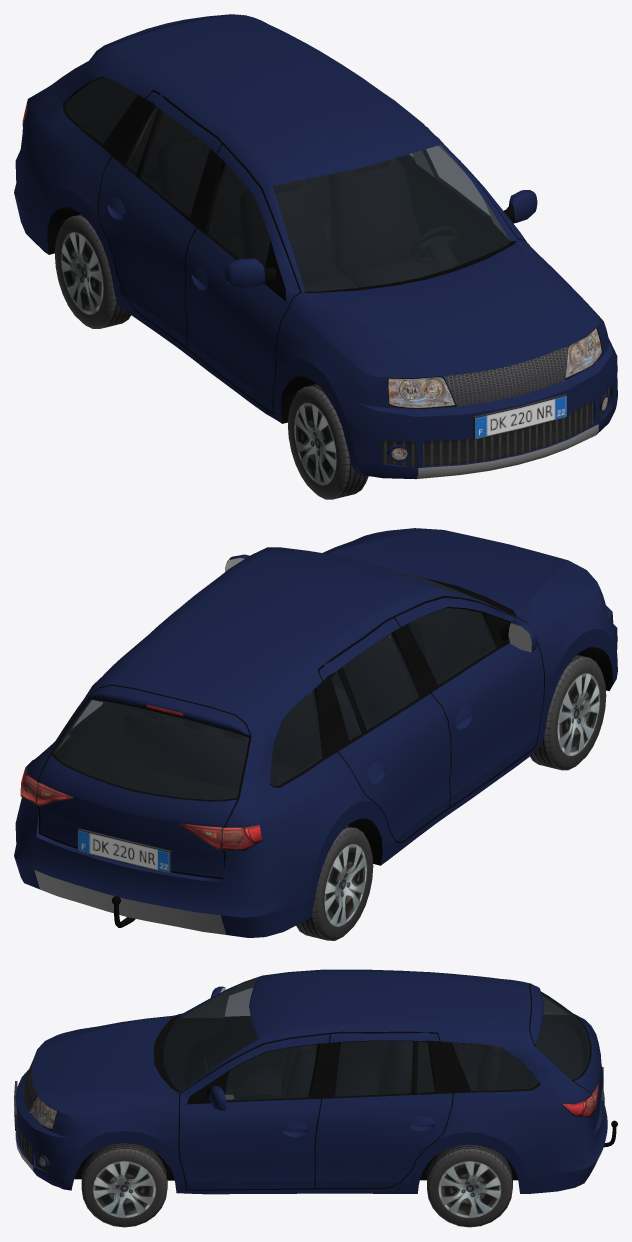
File: break.obj
3 renders of one model, top to bottom at view 1: azimuth 30°, elevation 25°; view 2: azimuth 150°, elevation 25°; view 3: azimuth 270°, elevation 25°, orthographic. The views are drawn at different scales.
Visible parts, largest first — view 1: Car_mesh.190, Seating_Cube.005, wheels_Cylinder, InteriorCar_mesh.004, FrontLines_mesh.009, LicensePlates_mesh.010, Rearview_Plane.002, Lines_mesh.008, SteeringWheel_Torus; view 2: Car_mesh.190, Seating_Cube.005, wheels_Cylinder, InteriorCar_mesh.004, RearLights_mesh.005, Lines_mesh.008, LicensePlates_mesh.010, sweethome3d_window_mirror_Plane.003; view 3: Car_mesh.190, wheels_Cylinder, InteriorCar_mesh.004, Seating_Cube.005, Lines_mesh.008, RearLights_mesh.005, FrontLines_mesh.009, Rearview_Plane.002.
Boxes of the visible parts, x1,y1,x2,y2 form: Car_mesh.190: [14, 14, 617, 479]; Seating_Cube.005: [124, 104, 440, 291]; wheels_Cylinder: [55, 214, 368, 499]; InteriorCar_mesh.004: [68, 77, 510, 265]; FrontLines_mesh.009: [387, 327, 601, 409]; LicensePlates_mesh.010: [473, 394, 566, 439]; Rearview_Plane.002: [225, 190, 537, 287]; Lines_mesh.008: [90, 14, 529, 414]; SteeringWheel_Torus: [411, 226, 458, 271]; Car_mesh.190: [14, 528, 617, 937]; Seating_Cube.005: [124, 635, 415, 788]; wheels_Cylinder: [296, 655, 606, 940]; InteriorCar_mesh.004: [54, 608, 492, 799]; RearLights_mesh.005: [20, 759, 262, 850]; Lines_mesh.008: [37, 596, 544, 878]; LicensePlates_mesh.010: [77, 828, 171, 873]; sweethome3d_window_mirror_Plane.003: [225, 558, 531, 652]; Car_mesh.190: [15, 969, 607, 1194]; wheels_Cylinder: [81, 1143, 512, 1227]; InteriorCar_mesh.004: [163, 978, 587, 1099]; Seating_Cube.005: [233, 1041, 499, 1099]; Lines_mesh.008: [178, 983, 600, 1190]; RearLights_mesh.005: [562, 1082, 599, 1117]; FrontLines_mesh.009: [30, 1096, 56, 1129]; Rearview_Plane.002: [206, 986, 226, 1110].
Size of the model in its own units: 200 by 155 by 457.
26 materials, 7 textured.
